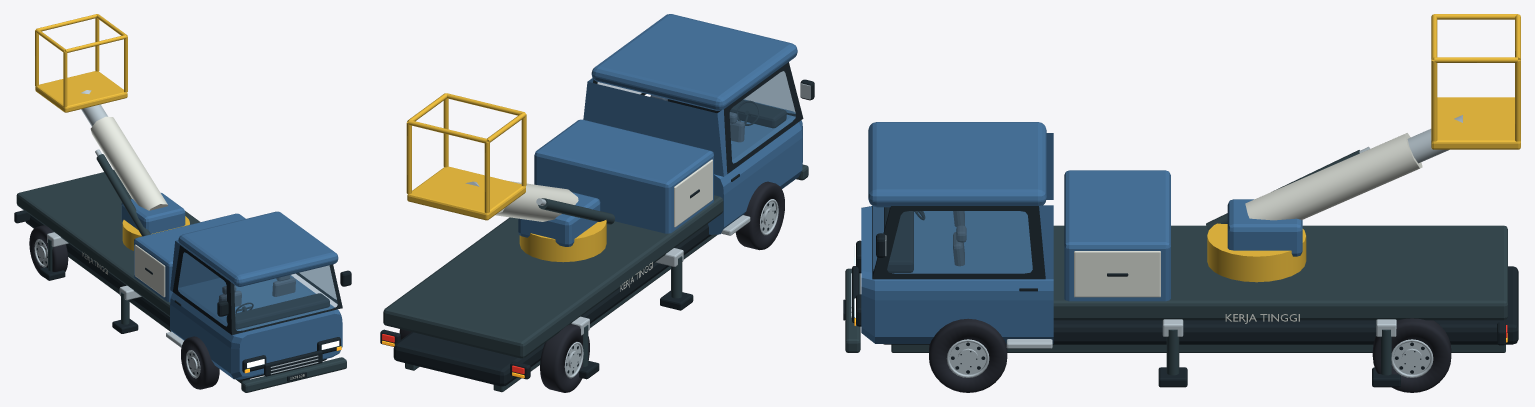
3 views of the same model, side by side, from view 1: azimuth 30°, elevation 25°; view 2: azimuth 150°, elevation 25°; view 3: azimuth 270°, elevation 25° (orthographic). The views are drawn at different scales.
Parts seen in each view (by area): view 1: Bukit Aerial Basket Lorry; view 2: Bukit Aerial Basket Lorry; view 3: Bukit Aerial Basket Lorry.
Part boxes in pixels (x1,y1,x2,y2): Bukit Aerial Basket Lorry: [14, 14, 351, 392]; Bukit Aerial Basket Lorry: [380, 14, 814, 392]; Bukit Aerial Basket Lorry: [843, 14, 1520, 392].
Bounding box in the file's own units: 2.7 × 4.06 × 7.94.
